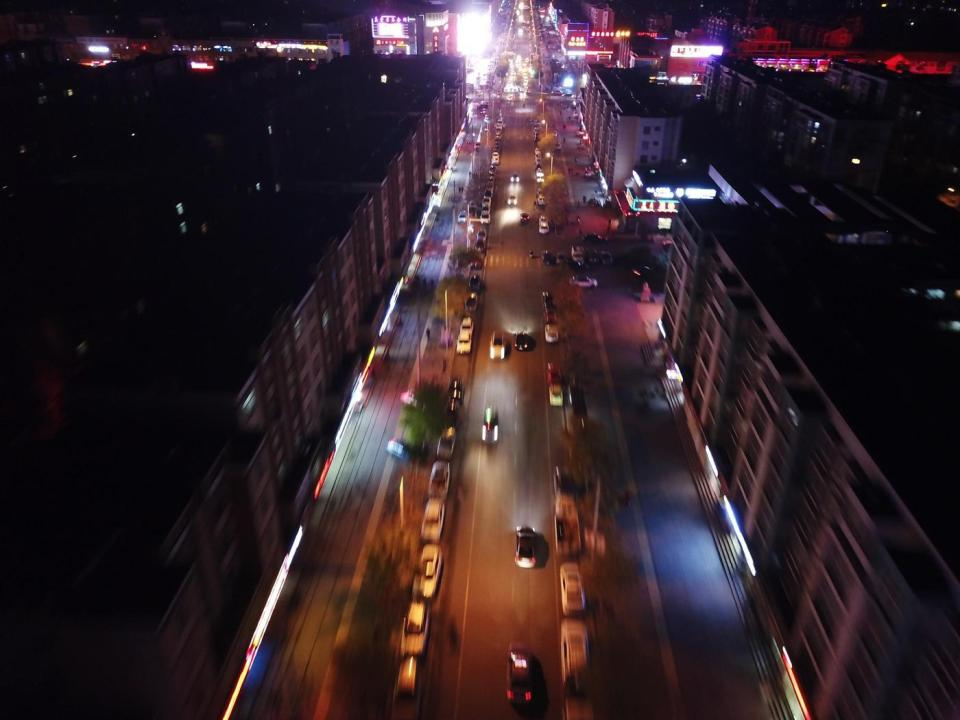car: (561, 618, 591, 694), (390, 656, 423, 720), (507, 640, 533, 706), (399, 600, 429, 656), (411, 544, 441, 598), (555, 496, 581, 557), (560, 561, 588, 617), (568, 384, 590, 436), (420, 497, 444, 543), (554, 465, 581, 505), (515, 527, 534, 567), (429, 460, 449, 497), (436, 426, 456, 459), (482, 408, 498, 442), (629, 262, 662, 278), (442, 398, 460, 426), (446, 377, 464, 403), (489, 330, 505, 359), (568, 275, 597, 288), (548, 360, 562, 385), (457, 330, 471, 354), (549, 385, 563, 406), (514, 331, 528, 351), (583, 233, 607, 244), (460, 317, 473, 337), (464, 291, 477, 311), (545, 324, 559, 342), (541, 291, 556, 307), (543, 308, 558, 324), (586, 248, 600, 264), (468, 274, 480, 290), (542, 250, 554, 266), (569, 262, 589, 271), (470, 254, 482, 268), (601, 250, 613, 264), (458, 209, 468, 224), (475, 239, 485, 253), (539, 221, 549, 234), (481, 210, 490, 224), (557, 251, 566, 265), (507, 193, 517, 204), (520, 212, 530, 223), (477, 228, 486, 240), (510, 172, 519, 182), (482, 205, 490, 214), (482, 197, 490, 206), (484, 189, 492, 198), (538, 188, 546, 197), (538, 197, 547, 205), (663, 240, 673, 247), (562, 217, 570, 225), (539, 215, 548, 222), (487, 173, 494, 181), (474, 142, 482, 149), (562, 186, 569, 194), (562, 206, 569, 214), (492, 93, 502, 98), (488, 166, 495, 173), (484, 129, 491, 136), (536, 176, 544, 182), (562, 93, 571, 98), (572, 94, 581, 99), (552, 143, 561, 148), (486, 182, 493, 188), (492, 152, 498, 159), (491, 158, 498, 164), (551, 130, 557, 137), (533, 124, 540, 130), (535, 148, 542, 154), (535, 158, 542, 164), (535, 164, 542, 170), (536, 170, 543, 176), (484, 118, 492, 123), (494, 144, 499, 152), (534, 130, 540, 136), (610, 64, 616, 70), (534, 137, 541, 142), (480, 101, 488, 105), (496, 118, 504, 122), (554, 90, 562, 94), (553, 88, 561, 92), (518, 27, 523, 33), (496, 128, 501, 134), (494, 137, 500, 142), (480, 111, 487, 115), (535, 154, 542, 158), (496, 123, 501, 128), (494, 140, 499, 145), (520, 92, 526, 96), (507, 96, 515, 99), (480, 105, 488, 108), (496, 114, 502, 118), (495, 133, 501, 137), (540, 41, 548, 44), (605, 63, 609, 69), (480, 108, 487, 111), (550, 30, 557, 33), (511, 70, 516, 74), (506, 82, 511, 86), (696, 81, 700, 86), (484, 114, 490, 117), (516, 63, 520, 67), (522, 66, 526, 70), (526, 89, 530, 93), (524, 81, 528, 85), (511, 75, 515, 79), (523, 79, 528, 82), (523, 76, 528, 79), (496, 108, 501, 111), (563, 90, 570, 92), (525, 58, 528, 62), (517, 54, 521, 57), (522, 63, 526, 66), (524, 85, 528, 88), (523, 72, 527, 75), (556, 60, 560, 63), (516, 58, 521, 60), (516, 61, 521, 63), (496, 113, 501, 115), (557, 39, 560, 42), (557, 43, 561, 45), (539, 48, 546, 49), (549, 46, 551, 49), (553, 46, 556, 48), (558, 49, 560, 51)
truck: (571, 244, 584, 261), (466, 137, 470, 143)
